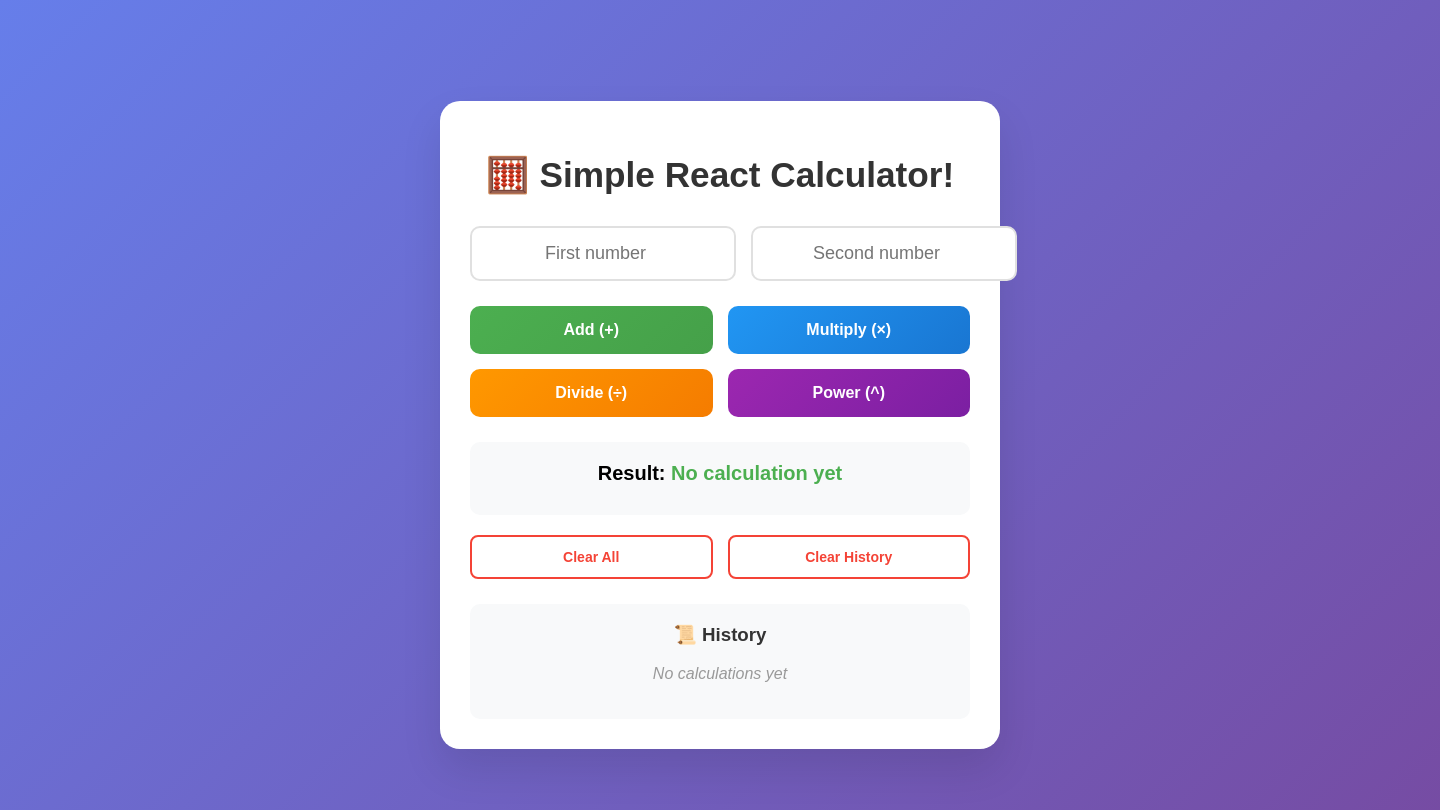
Calculator App › performs basic addition
Type "5" into the number field with placeholder "First number". click: [603, 254]
box: top-left (470, 226), bottom-right (736, 281)
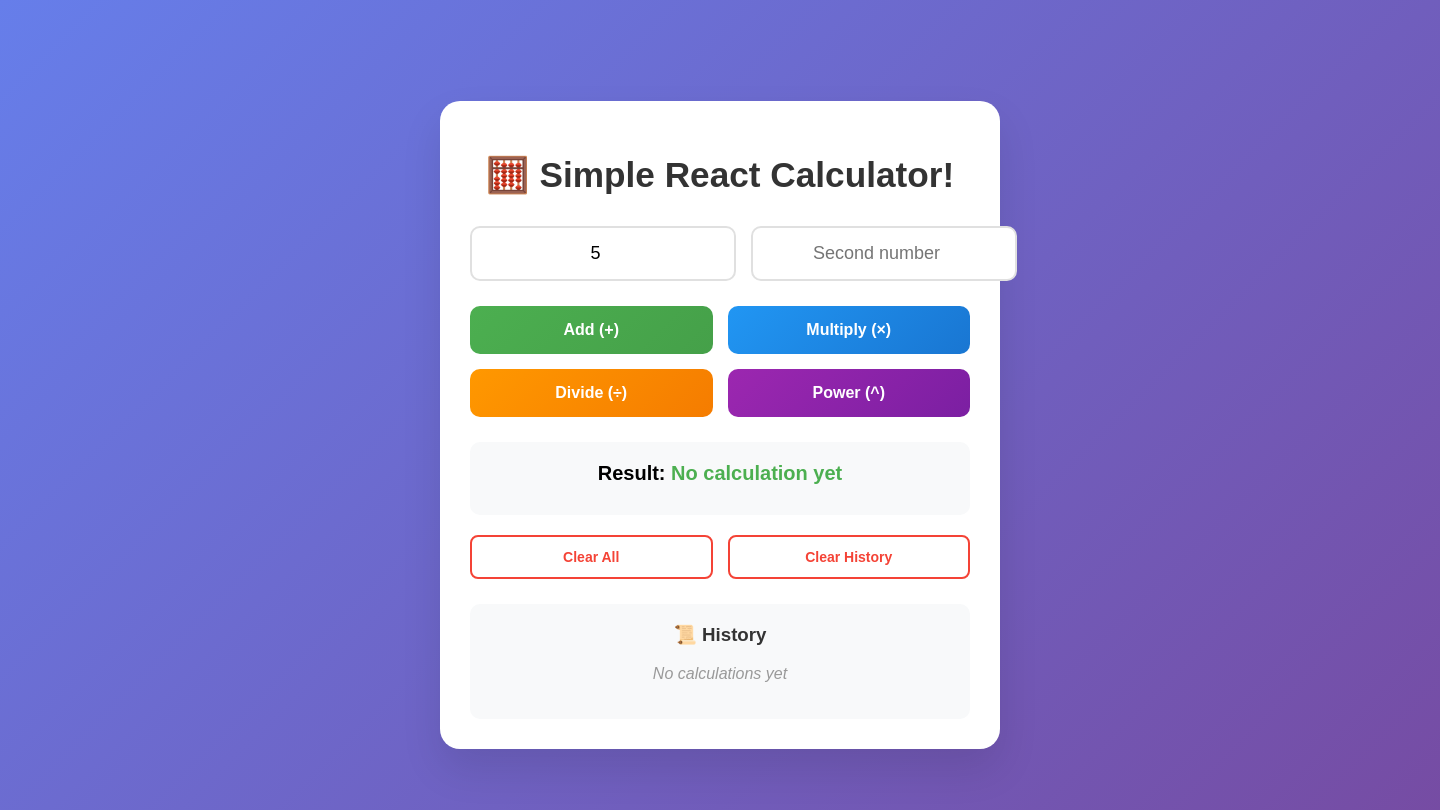
Type "3" into the number field with placeholder "Second number". click: [884, 254]
box: top-left (751, 226), bottom-right (1017, 281)
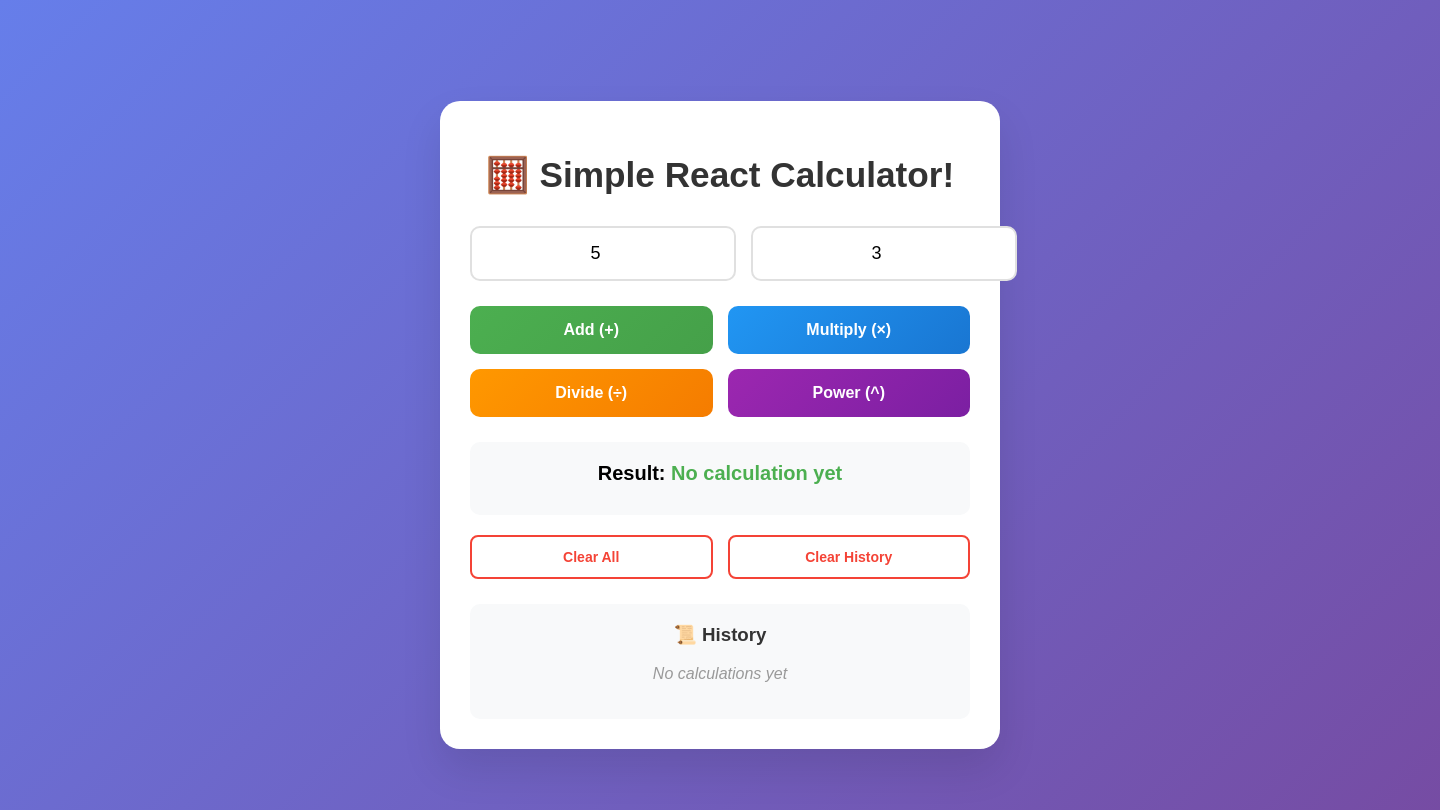
Click the button "Add (+)". click: [591, 330]
box: top-left (470, 306), bottom-right (712, 354)
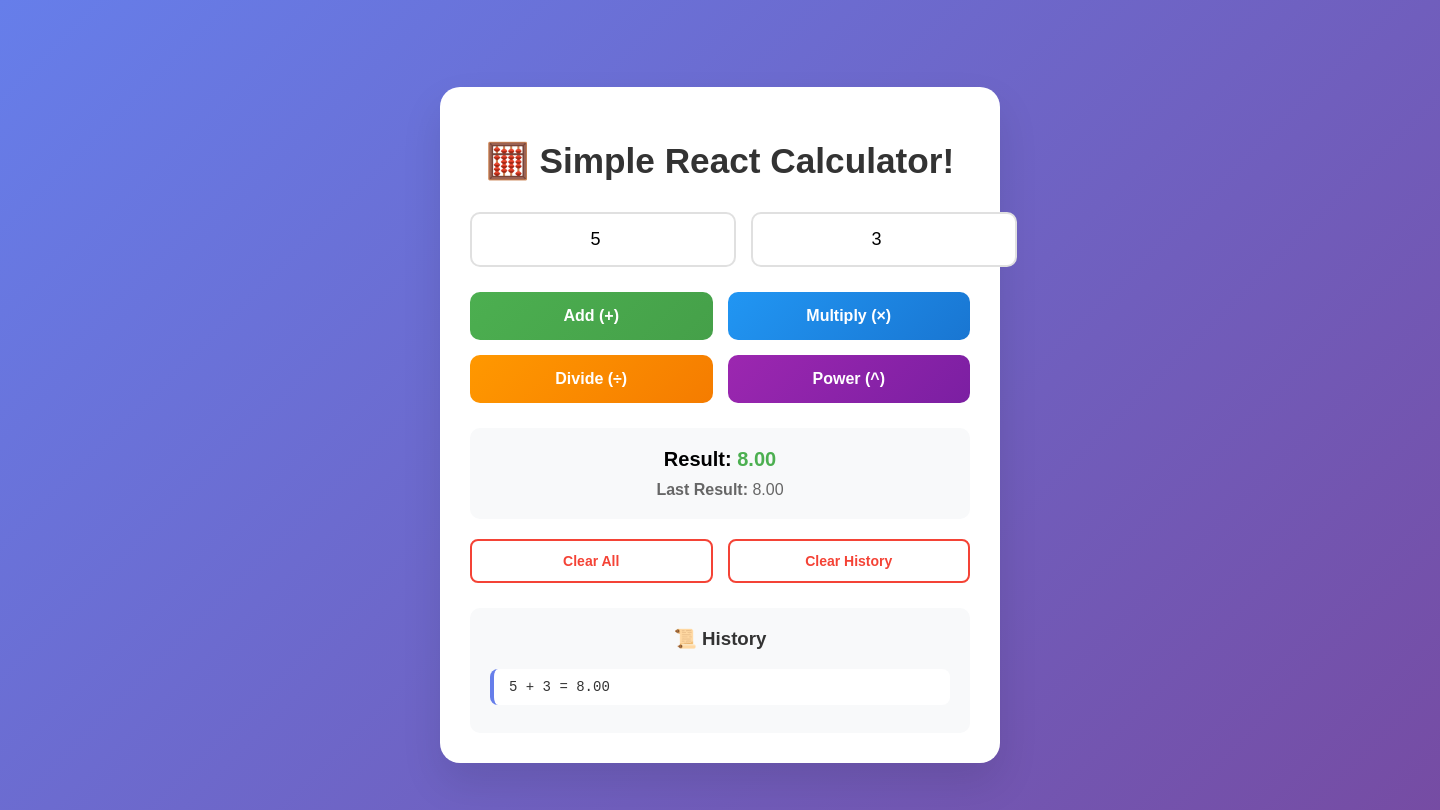
Expected: the text with class "success" reads "8.00", top-left (737, 448), bottom-right (776, 470)
